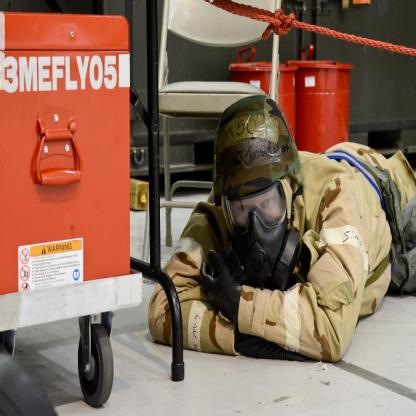Helmet: (214, 97, 294, 264)
